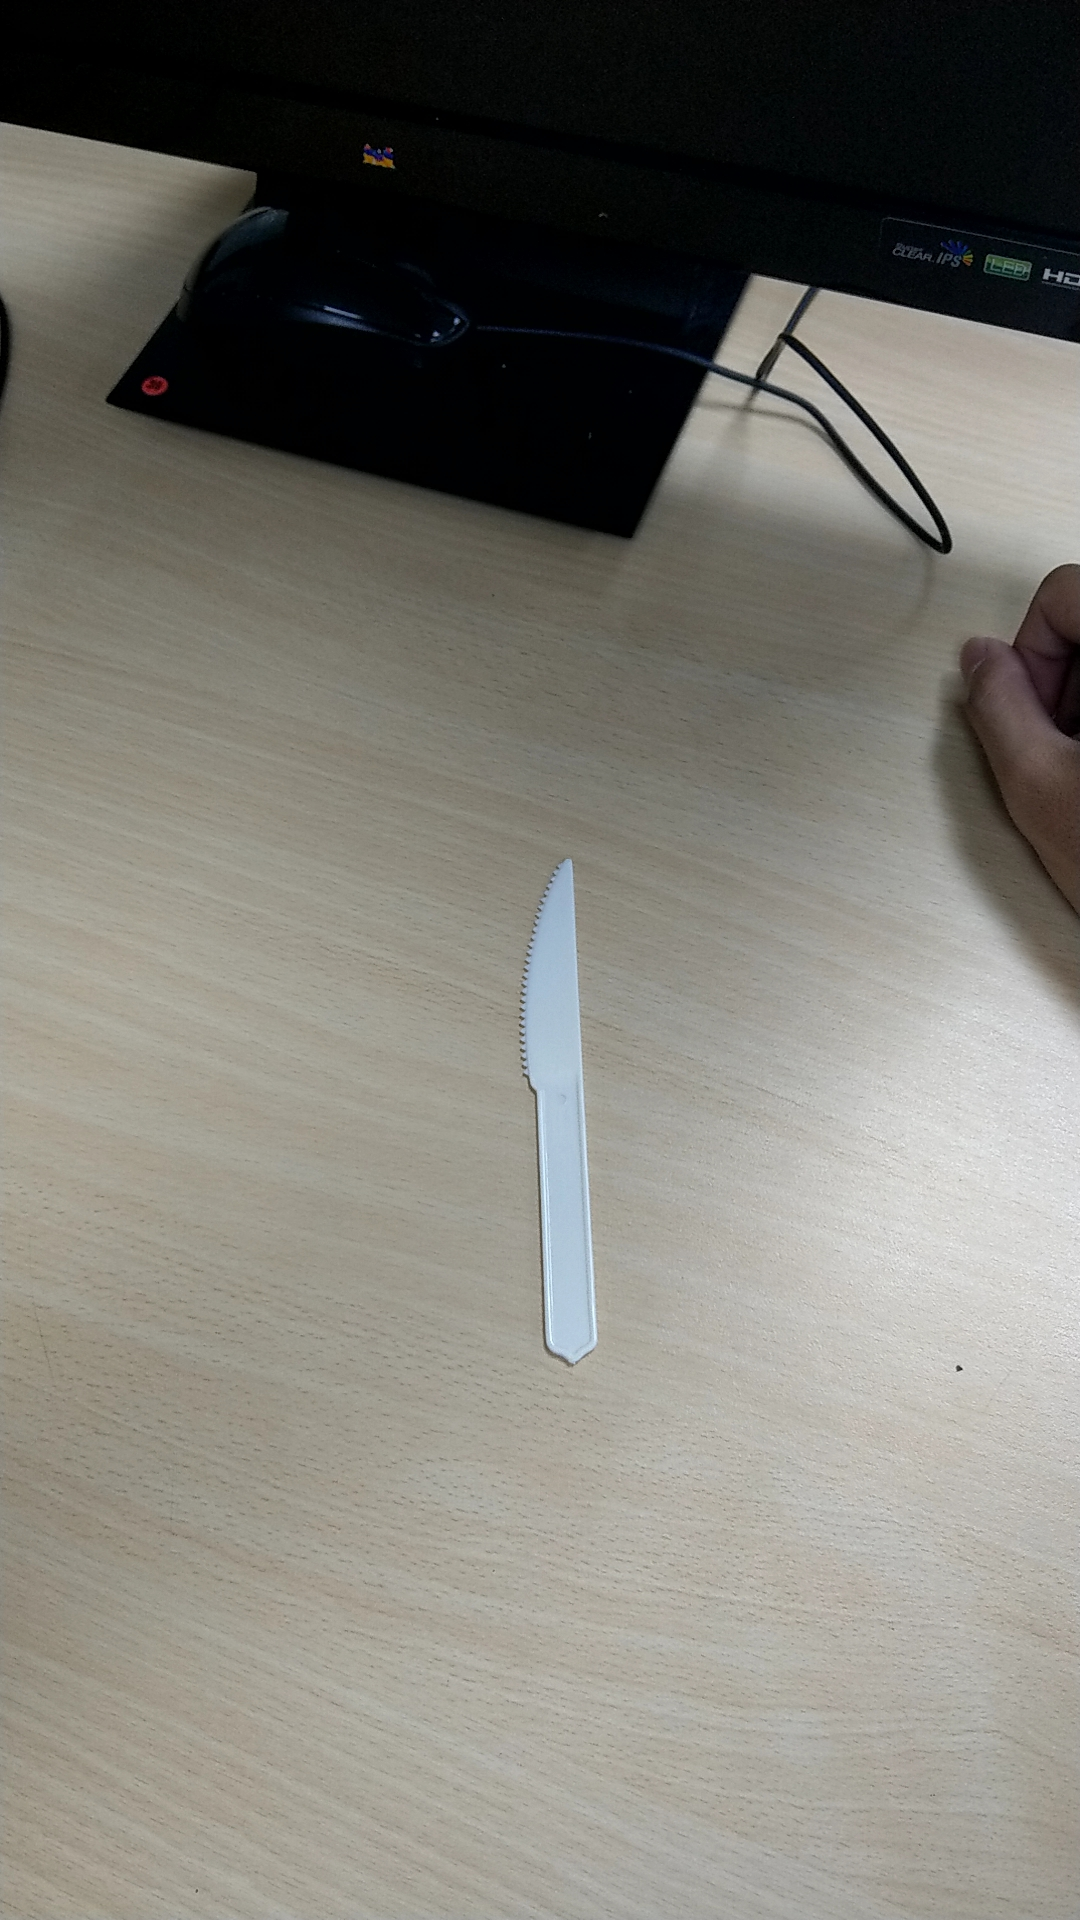knife: (498, 847, 622, 1386)
